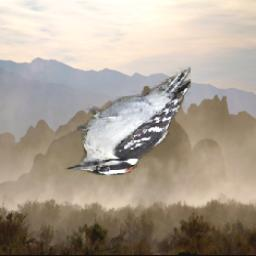Woodpecker: (64, 67, 191, 175)
